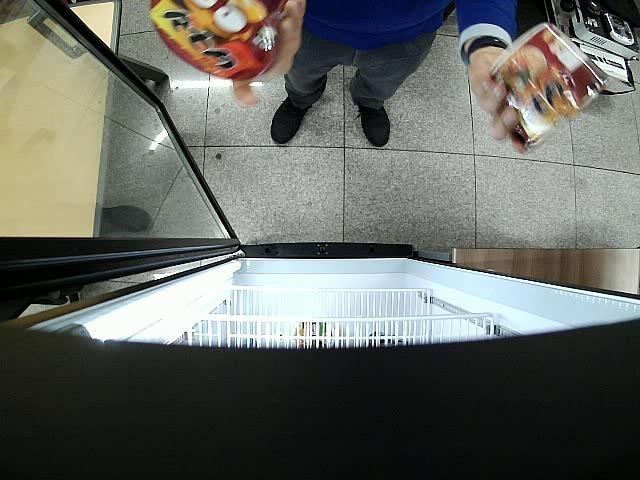05_nuguri_L: (491, 25, 607, 146), (152, 0, 284, 79)
